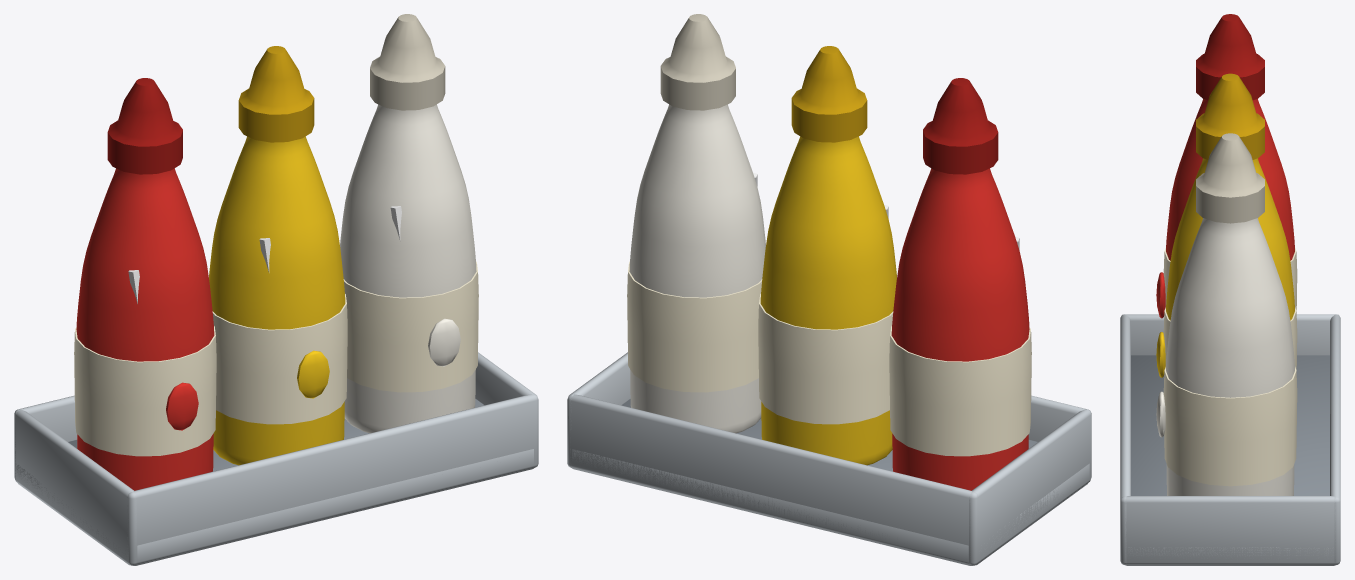
Rendered from truck_sauce_bottles.glb.
3 views of the same model, side by side, from view 1: azimuth 30°, elevation 25°; view 2: azimuth 150°, elevation 25°; view 3: azimuth 270°, elevation 25° (orthographic). The views are drawn at different scales.
Parts seen in each view (by area): view 1: TruckSauceBottles; view 2: TruckSauceBottles; view 3: TruckSauceBottles.
Boxes of the visible parts, left/top/right/bottom form: TruckSauceBottles: left=14, top=14, right=538, bottom=565; TruckSauceBottles: left=567, top=14, right=1091, bottom=565; TruckSauceBottles: left=1120, top=14, right=1340, bottom=565.
Bounding box in the file's own units: 5 × 4.99 × 2.5.
